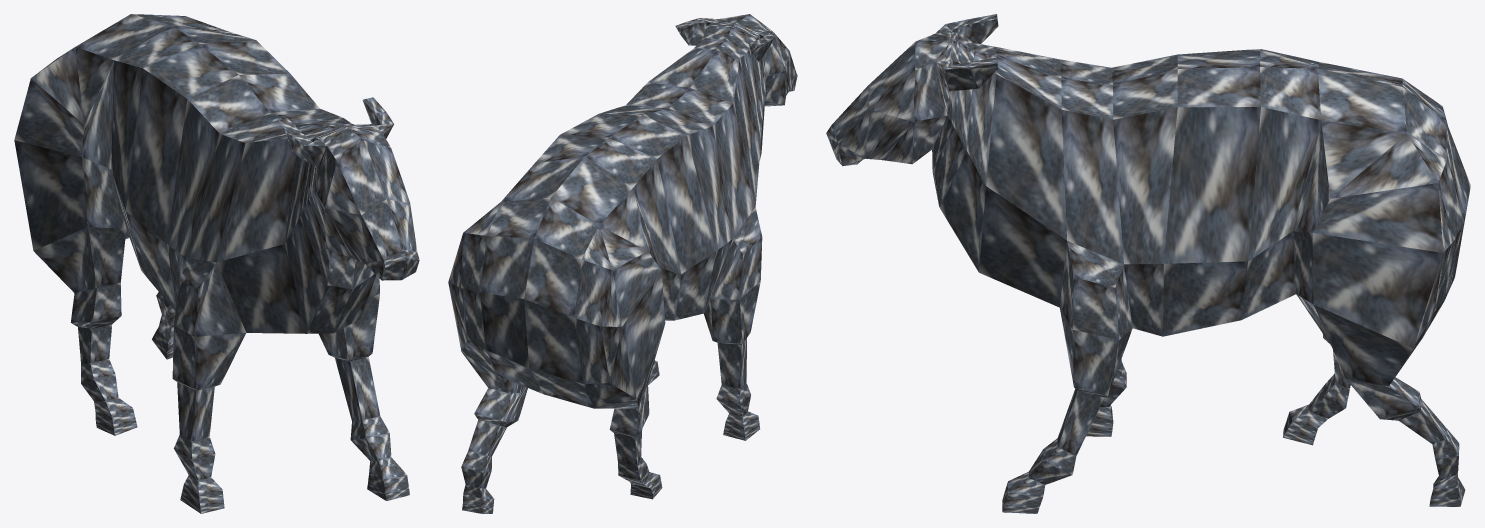
The model's file is SheepIdle_000070.obj.
The picture shows the model from 3 angles, left to right: view 1: azimuth 30°, elevation 25°; view 2: azimuth 150°, elevation 25°; view 3: azimuth 270°, elevation 25°; orthographic projection. The views are drawn at different scales.
Parts seen in each view (by area): view 1: Sheep_Cylinder; view 2: Sheep_Cylinder; view 3: Sheep_Cylinder.
Boxes of the visible parts, box(x1,y1,x2,y2) form: Sheep_Cylinder: box(14, 14, 419, 513); Sheep_Cylinder: box(448, 14, 797, 513); Sheep_Cylinder: box(826, 14, 1470, 513).
Bounding box in the file's own units: 2.22 × 4.43 × 5.92.
